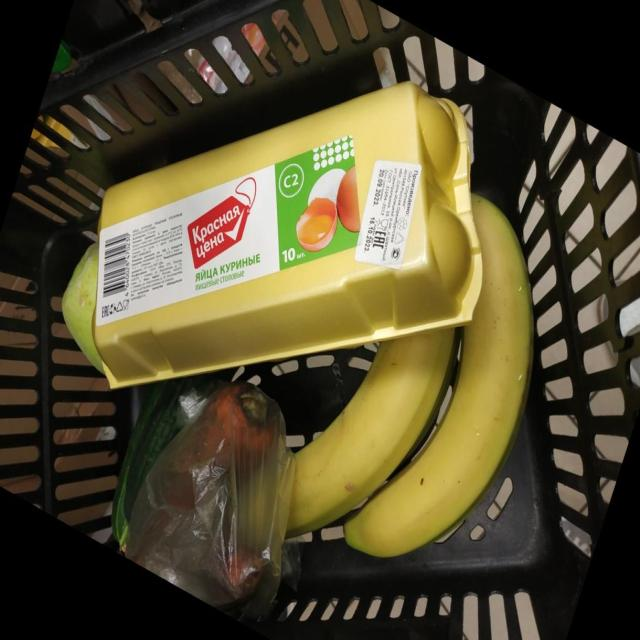Apple: (62, 243, 104, 373)
Banana: (344, 195, 533, 557), (286, 329, 456, 538)
Carrot: (163, 383, 281, 473)
Cucumber: (112, 375, 222, 551)
Eggs: (93, 82, 482, 387)
